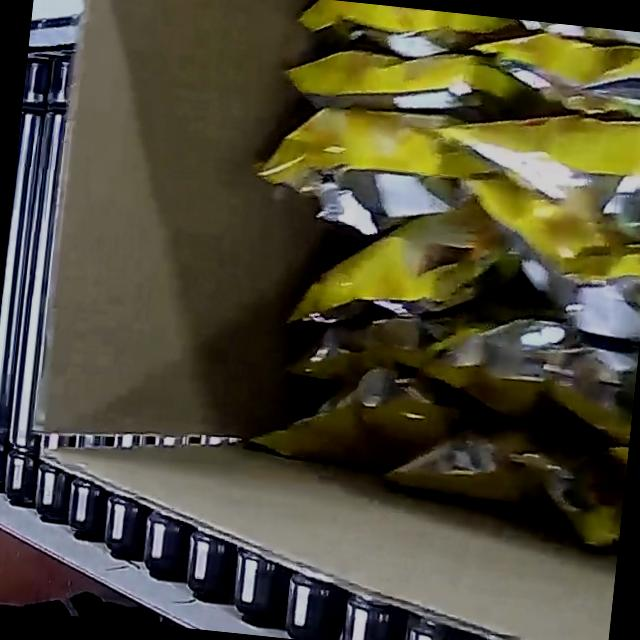salted: (212, 0, 640, 575)
